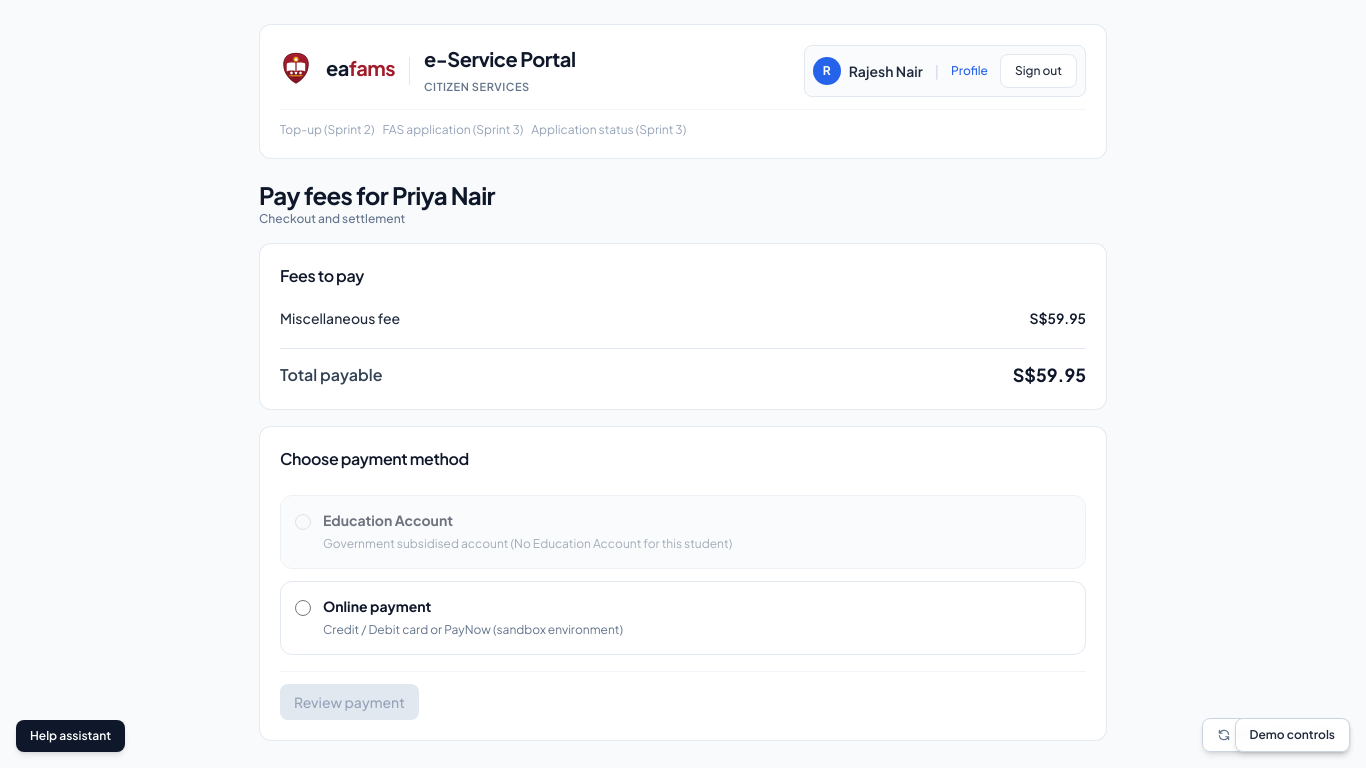
Test: success pays the charge and shows the receipt
The image size is (1366, 768).
Click the radio button labelled "Online payment" at (303, 608), box [295, 600, 311, 616]
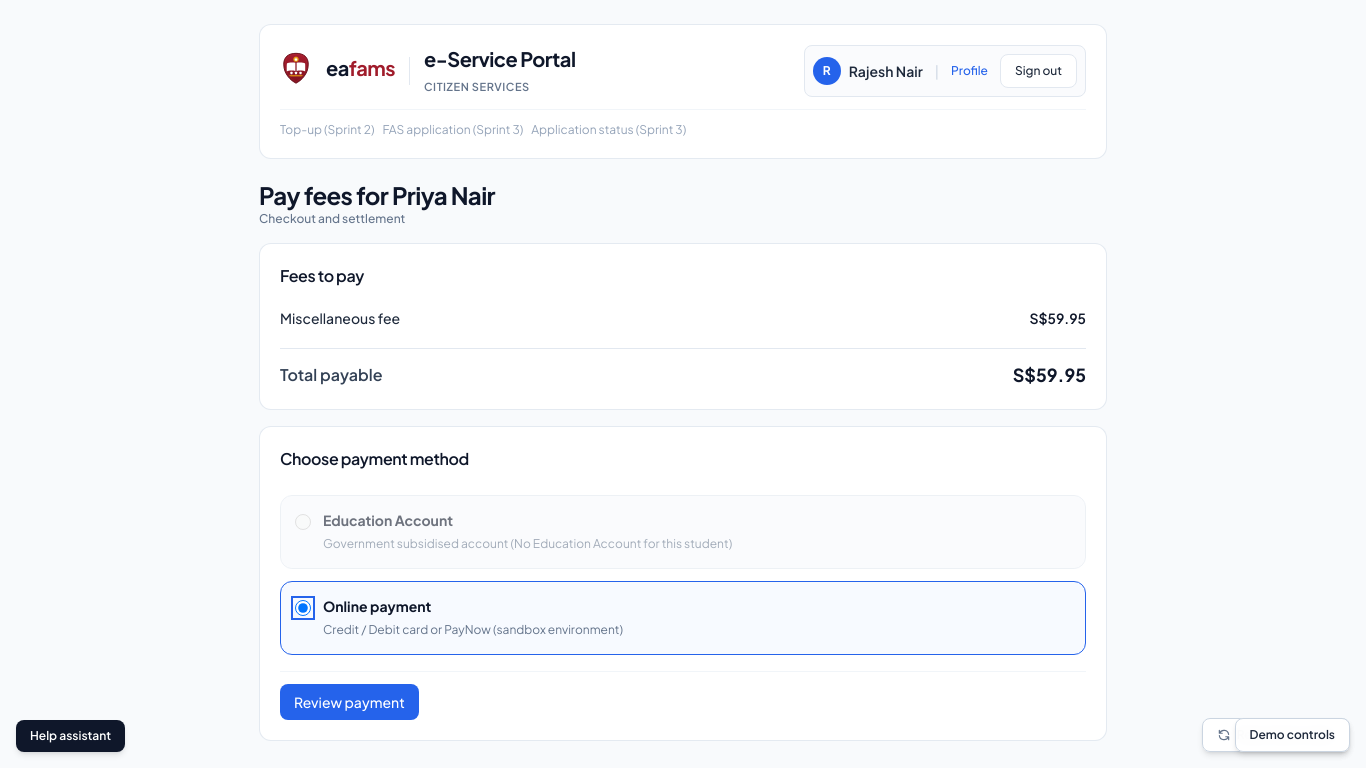
Click the button "Review payment" at (349, 702), box [280, 684, 419, 720]
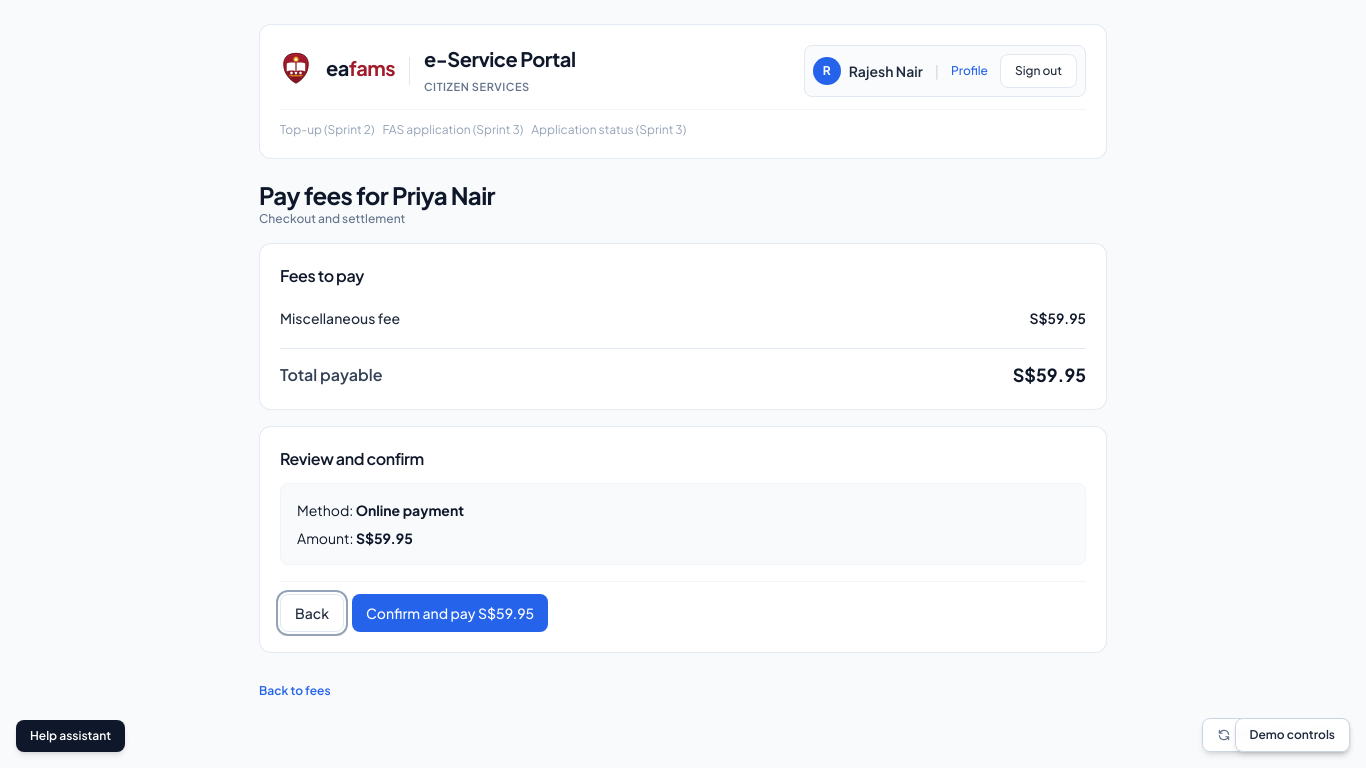
Click the button "Confirm and pay S$59.95" at (450, 613), box [352, 594, 548, 632]
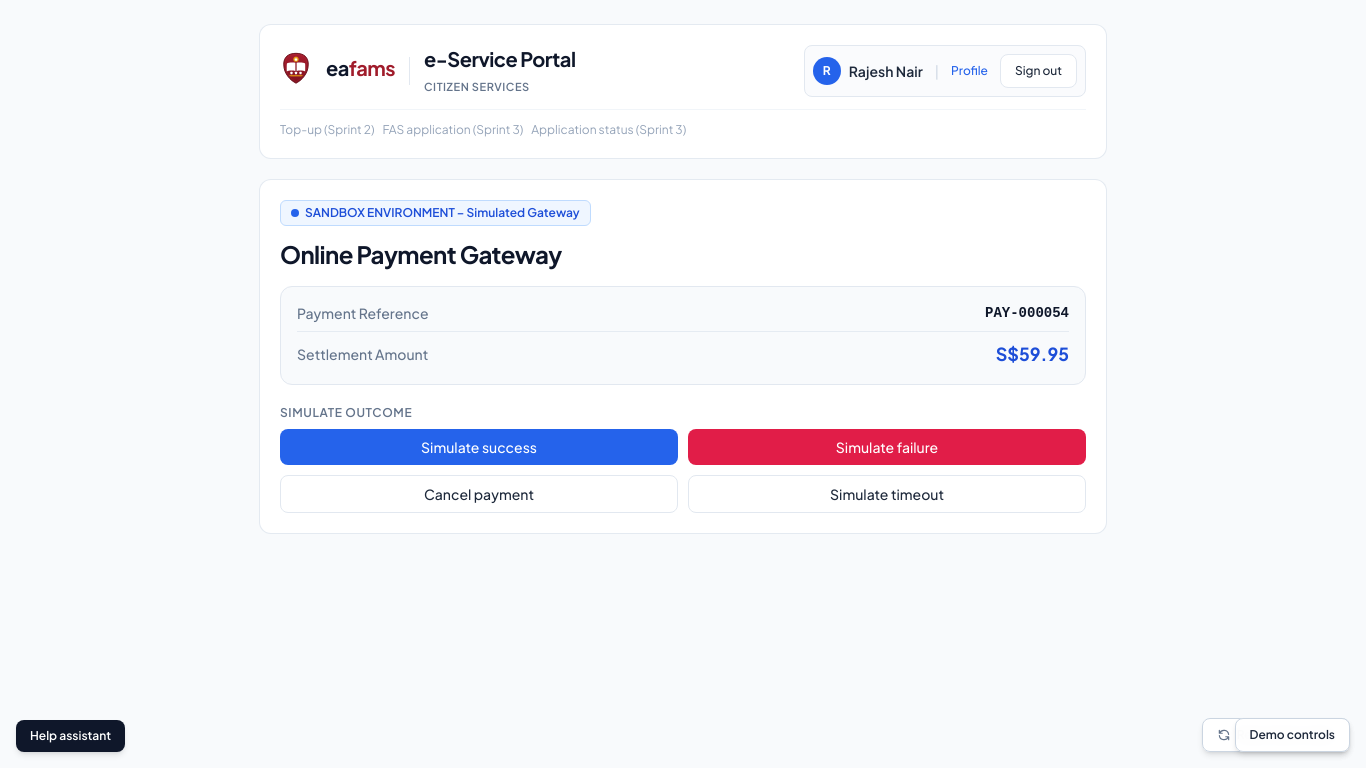
Now the element showing "SANDBOX ENVIRONMENT – Simulated Gateway" is shown, box [280, 200, 591, 226]
Click the button "Simulate success" at (479, 447), box [280, 429, 678, 465]
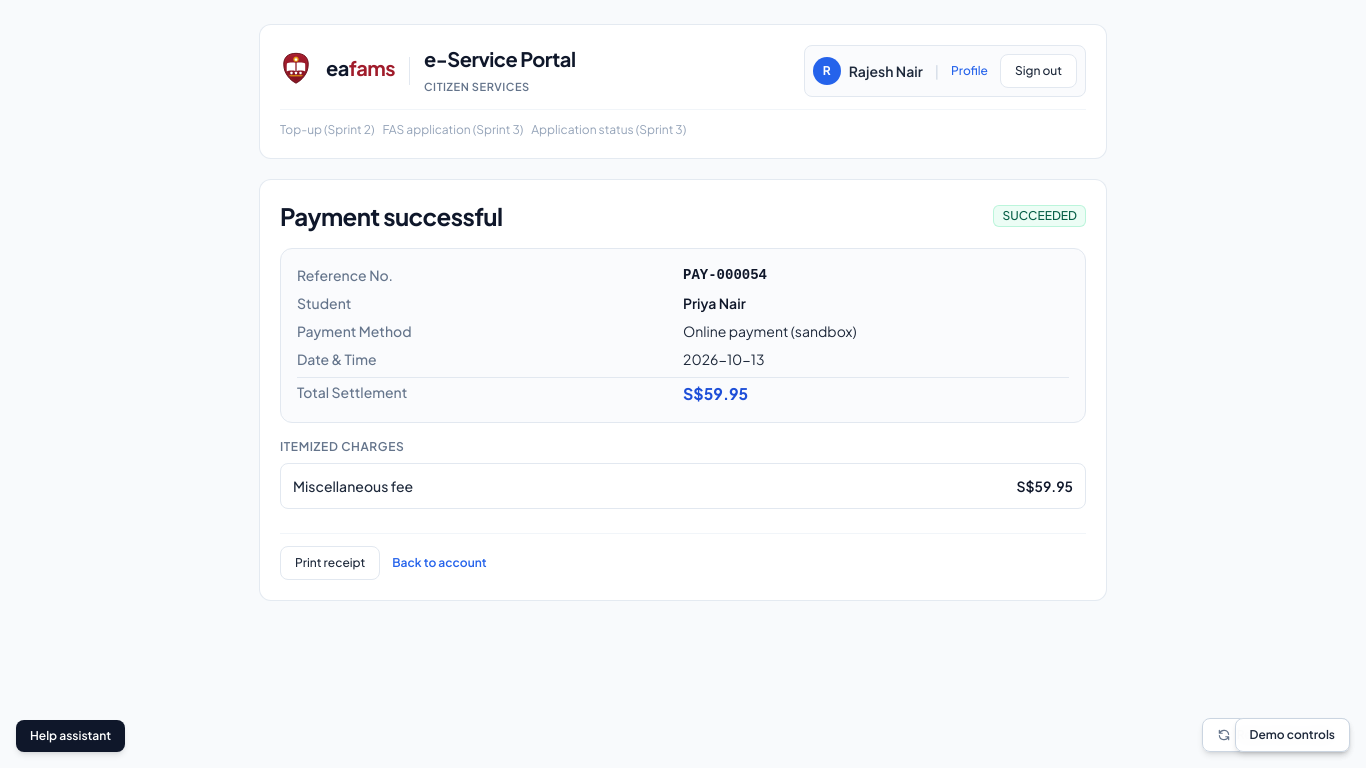
Now the heading "Payment successful" is shown, box [280, 200, 502, 232]
